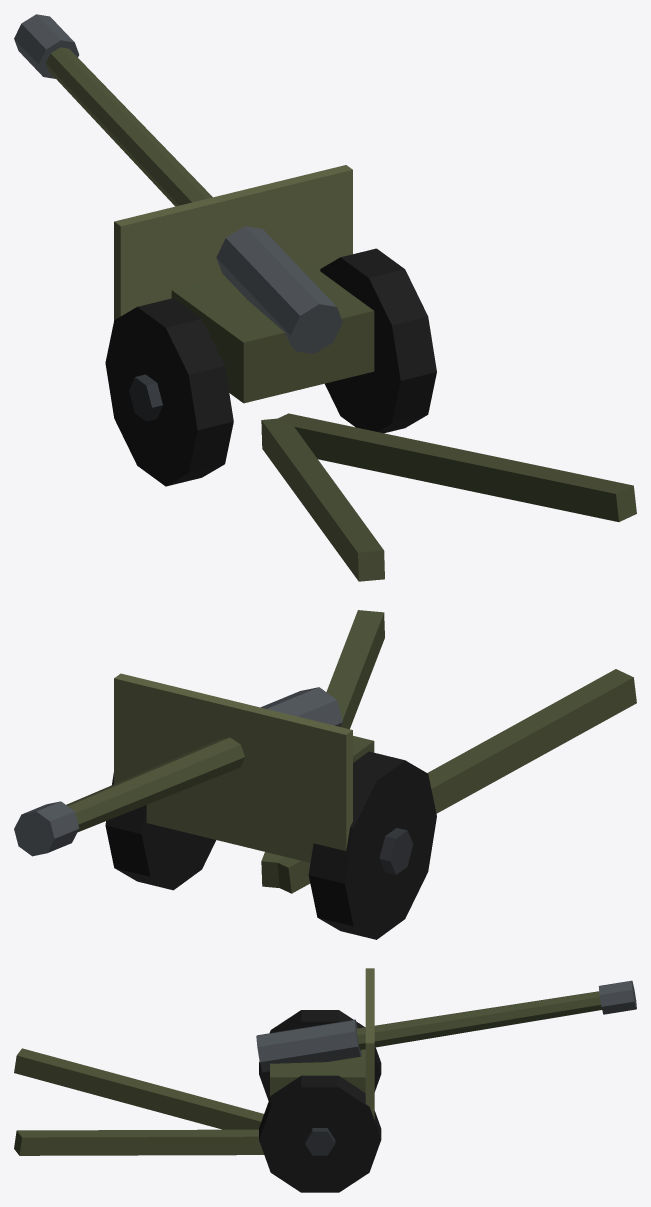
Rendered from art_howitzer.glb.
3 renders of one model, top to bottom at view 1: azimuth 30°, elevation 25°; view 2: azimuth 150°, elevation 25°; view 3: azimuth 270°, elevation 25°, orthographic. The views are drawn at different scales.
Parts seen in each view (by area): view 1: art_howitzer; view 2: art_howitzer; view 3: art_howitzer.
Boxes of the visible parts, bbox=[...] form: art_howitzer: bbox=[14, 14, 636, 581]; art_howitzer: bbox=[14, 610, 636, 939]; art_howitzer: bbox=[14, 968, 636, 1192].
Bounding box in the file's own units: 1.92 × 1.72 × 5.61.
